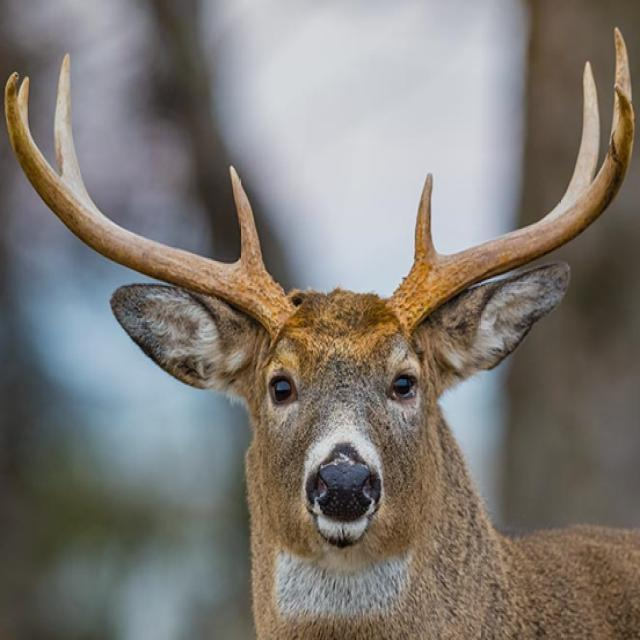L-F: (385, 84, 635, 335)
L-G1: (414, 171, 437, 265)
L-G2: (549, 60, 601, 215)
R-F: (4, 71, 296, 344)
R-G1: (229, 165, 265, 269)
R-G2: (53, 52, 92, 201)
